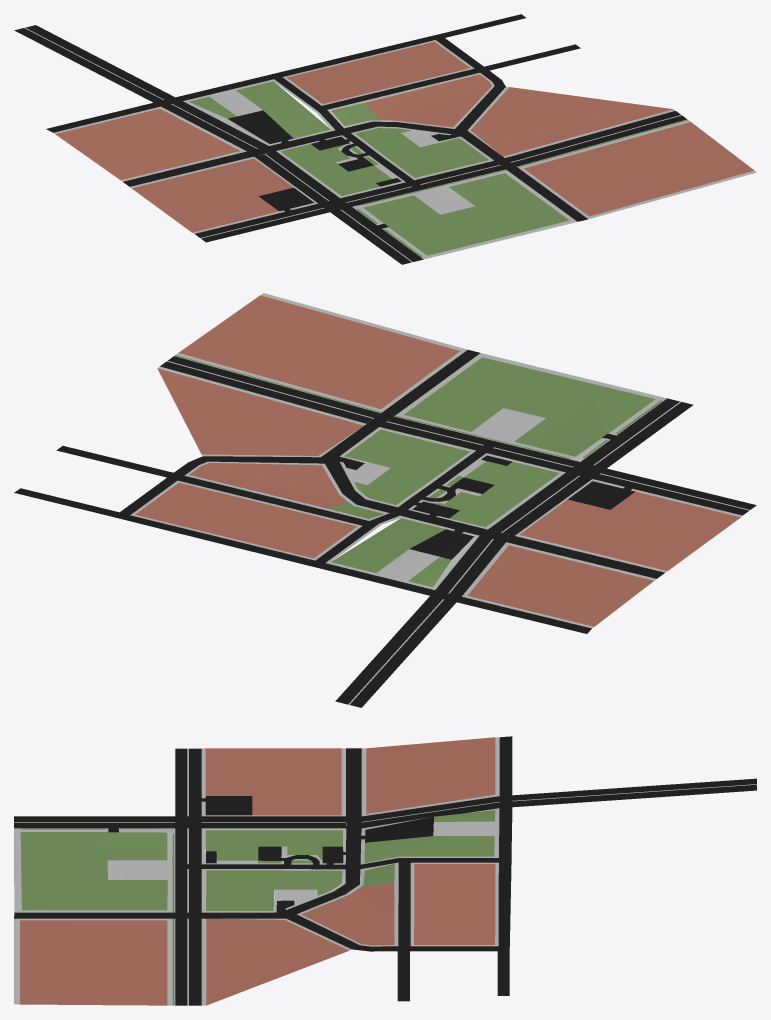
Rendered from city_ground.glb.
3 views of the same model, one above another, from view 1: azimuth 30°, elevation 25°; view 2: azimuth 150°, elevation 25°; view 3: azimuth 270°, elevation 25° (orthographic). The views are drawn at different scales.
Parts seen in each view (by area): view 1: road; view 2: road; view 3: road.
Boxes of the visible parts, x1,y1,x2,y2 form: road: (14, 14, 756, 264); road: (14, 293, 756, 707); road: (14, 736, 756, 1005).
Size of the model in its own units: 443 by 5.5 by 517.
